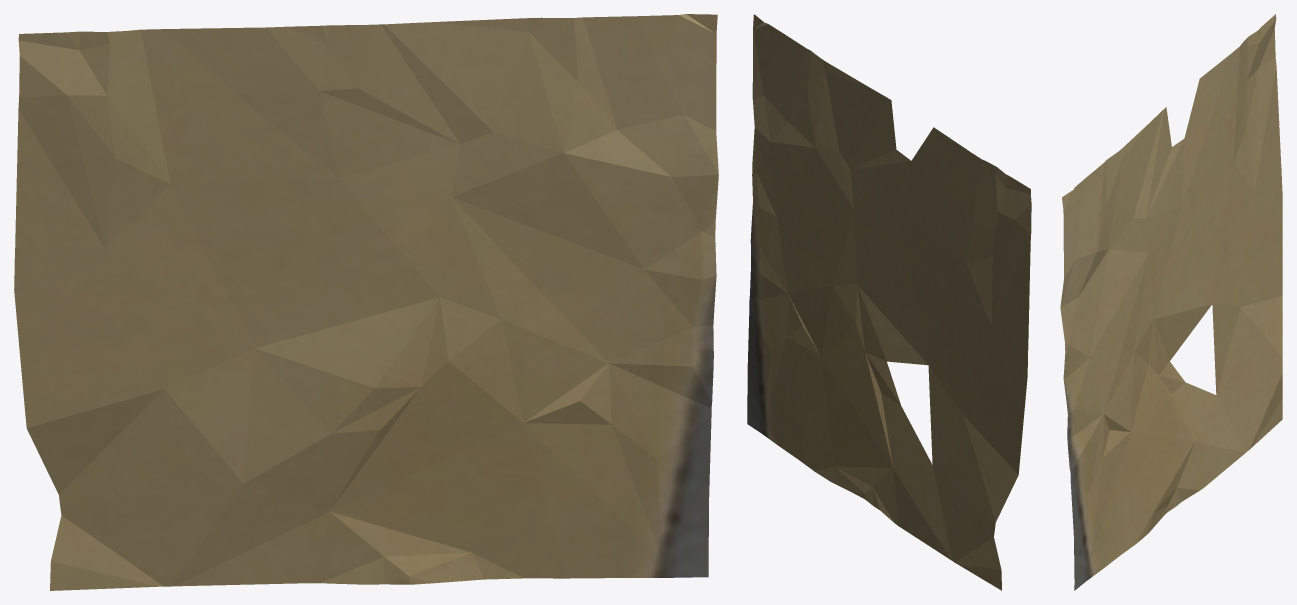
3 renders of one model, left to right at view 1: azimuth 30°, elevation 25°; view 2: azimuth 150°, elevation 25°; view 3: azimuth 270°, elevation 25°, orthographic. The views are drawn at different scales.
Bounding box in the file's own units: 0.8374 × 0.8374 × 0.4285.
3 materials, 3 textured.
